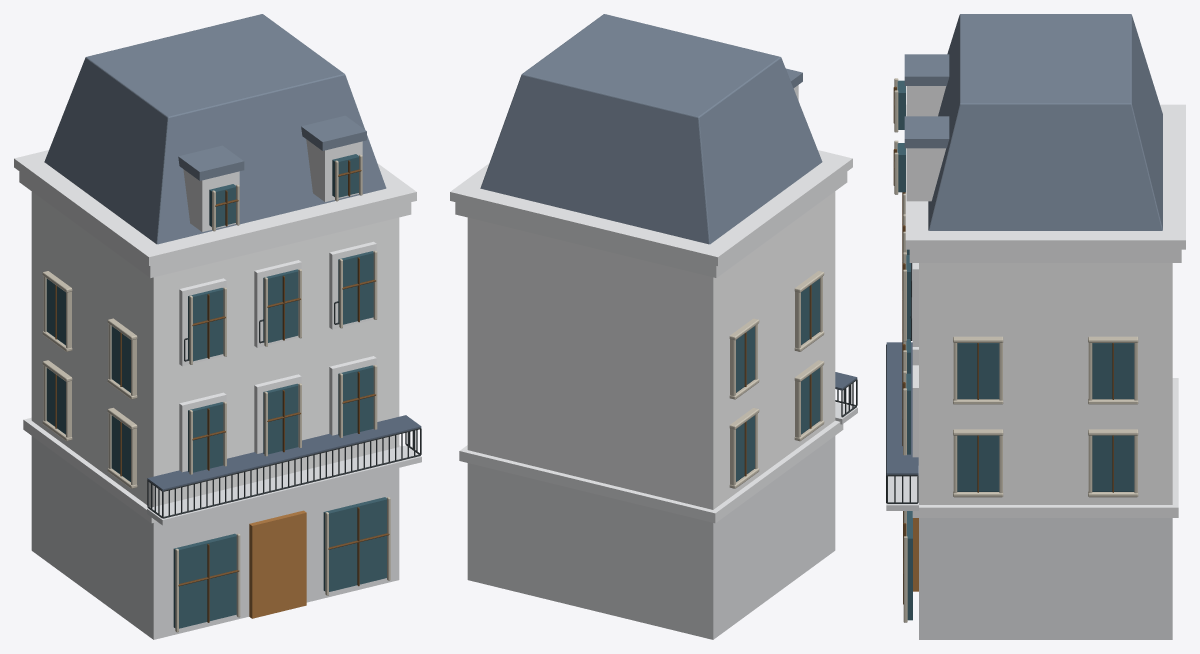
File: city_final_01.glb
3 views of the same model, side by side, from view 1: azimuth 30°, elevation 25°; view 2: azimuth 150°, elevation 25°; view 3: azimuth 270°, elevation 25° (orthographic). The views are drawn at different scales.
Visible parts, largest first — view 1: Exterior architecture detail 1; view 2: Exterior architecture detail 1; view 3: Exterior architecture detail 1.
Part boxes in pixels (x1=…): Exterior architecture detail 1: x1=14, y1=14, x2=421, y2=639; Exterior architecture detail 1: x1=450, y1=14, x2=857, y2=639; Exterior architecture detail 1: x1=886, y1=14, x2=1185, y2=639.
Size of the model in its own units: 7.85 by 14 by 7.33.
